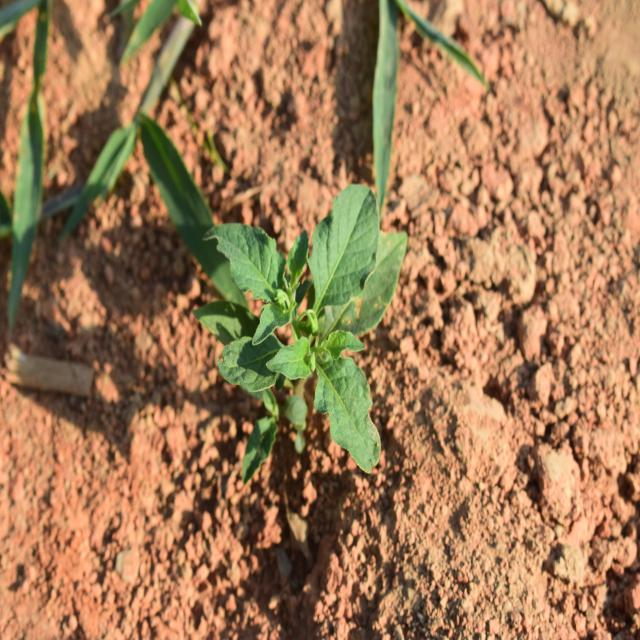Black_nightshade: (190, 178, 410, 488)
